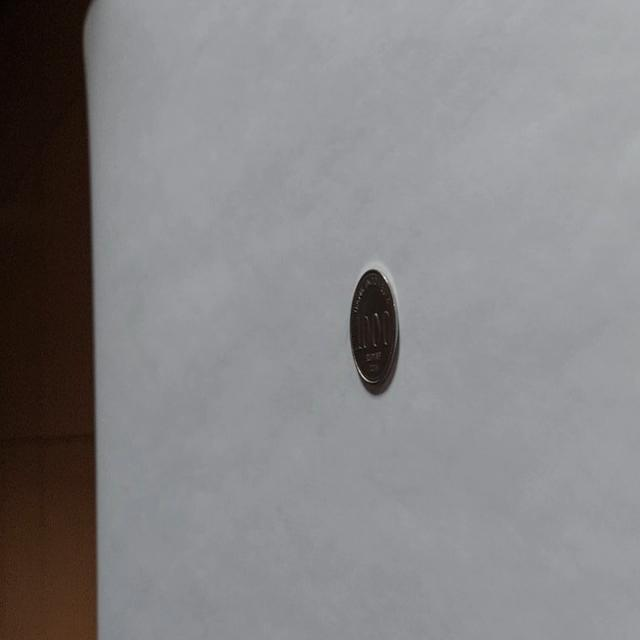seribu rupiah koin: (348, 264, 400, 394)
